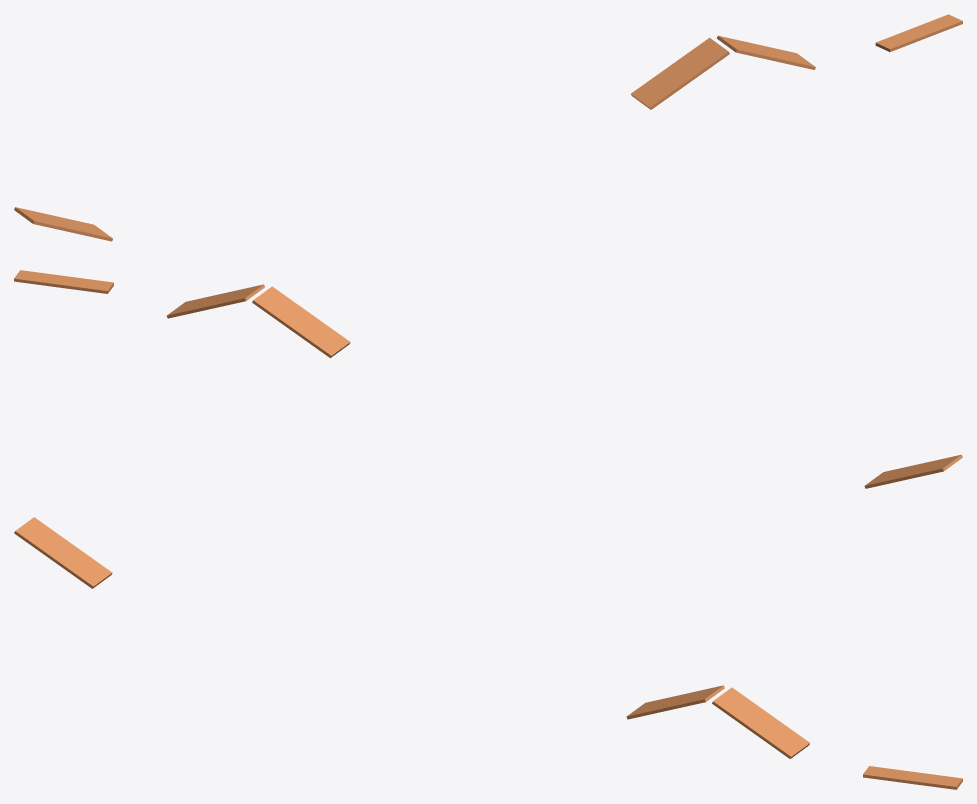
The model's file is ramps.fbx.
3 renders of one model, top to bottom at view 1: azimuth 30°, elevation 25°; view 2: azimuth 150°, elevation 25°; view 3: azimuth 330°, elevation 25°, orthographic.
Parts seen in each view (by area): view 1: ramp_3, ramp_1, ramp_2, ramp_4; view 2: ramp_3, ramp_1, ramp_2, ramp_4; view 3: ramp_4, ramp_2, ramp_1, ramp_3.
Boxes of the visible parts, <box> form: ramp_3: <box>631,37,729,109</box>; ramp_1: <box>875,14,962,51</box>; ramp_2: <box>717,35,815,69</box>; ramp_4: <box>14,207,112,241</box>; ramp_3: <box>252,286,350,358</box>; ramp_1: <box>14,270,113,293</box>; ramp_2: <box>167,284,264,318</box>; ramp_4: <box>864,454,962,488</box>; ramp_4: <box>14,517,112,588</box>; ramp_2: <box>712,687,809,758</box>; ramp_1: <box>863,766,962,789</box>; ramp_3: <box>626,685,724,719</box>.
Bounding box in the file's own units: 11284 × 453 × 441.
